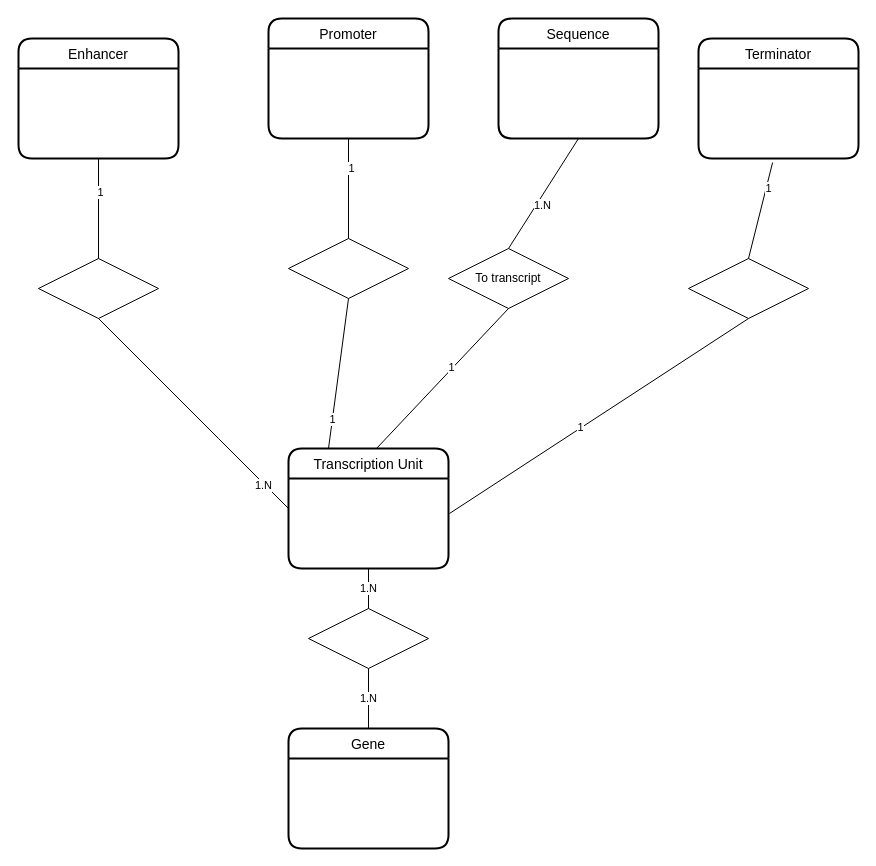
The diagram is 876 pixels wide and 866 high, and some of its shapes have lost their labels. The centre of each missing label's shape, as x and y in pixels:
Enhances: [98,288]
Promotes: [348,268]
Terminates: [748,288]
Transcribes into: [368,638]
